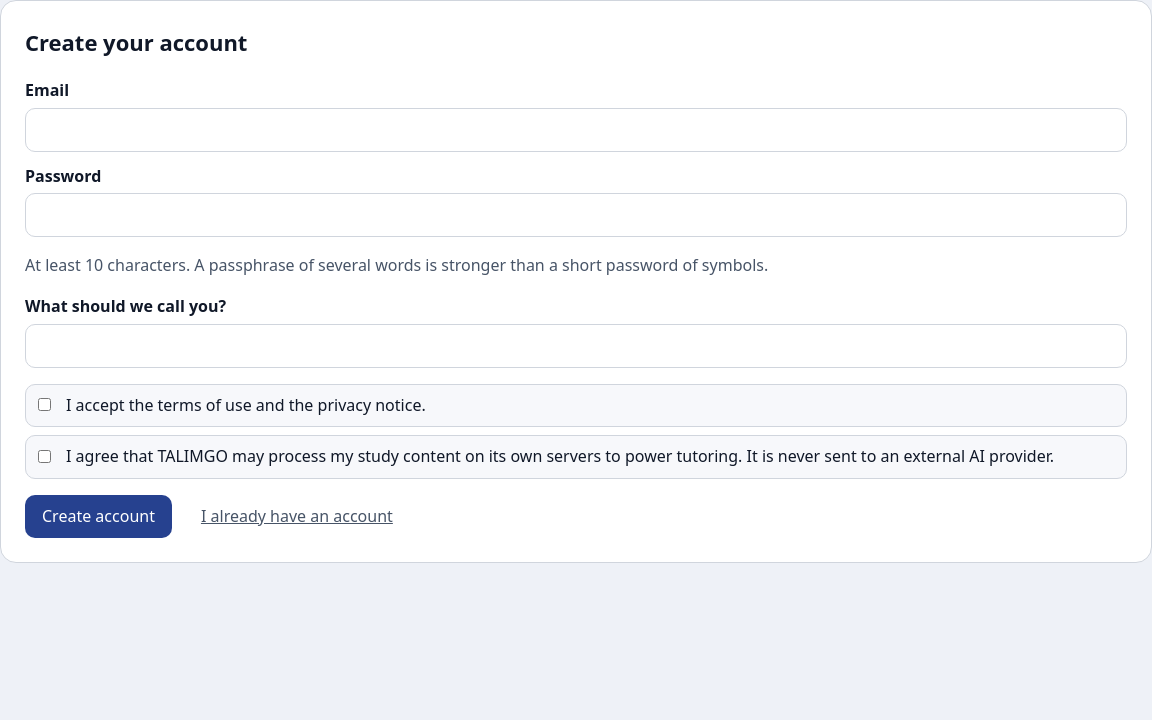
Test: errors are announced, not just coloured › announces a failed sign-in attempt in a live region
Note: Login mode has no required consent checkboxes, so the submit path is the plain one.
Click the button "I already have an account" at (297, 517), box 184,495 -> 410,538
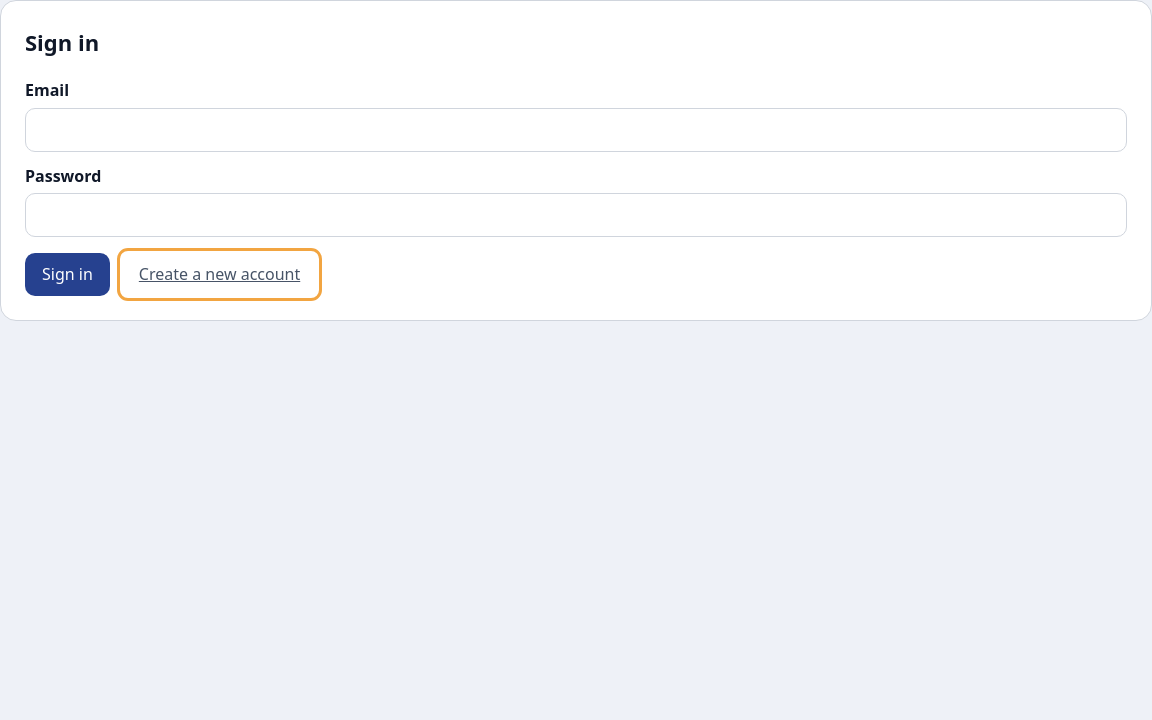
Type "learner@example.com" into the field labelled "Email" at (576, 130), box 25,108 -> 1127,152
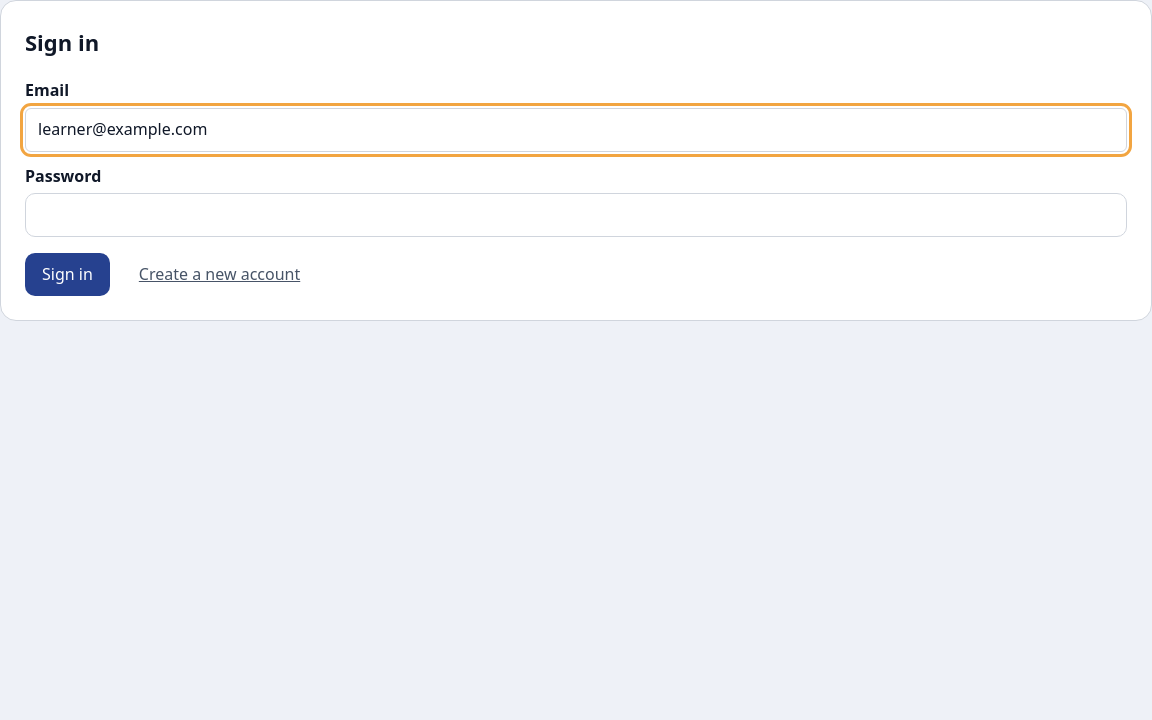
Type "correct-horse-battery" into the password field labelled "Password" at (576, 215), box 25,193 -> 1127,237
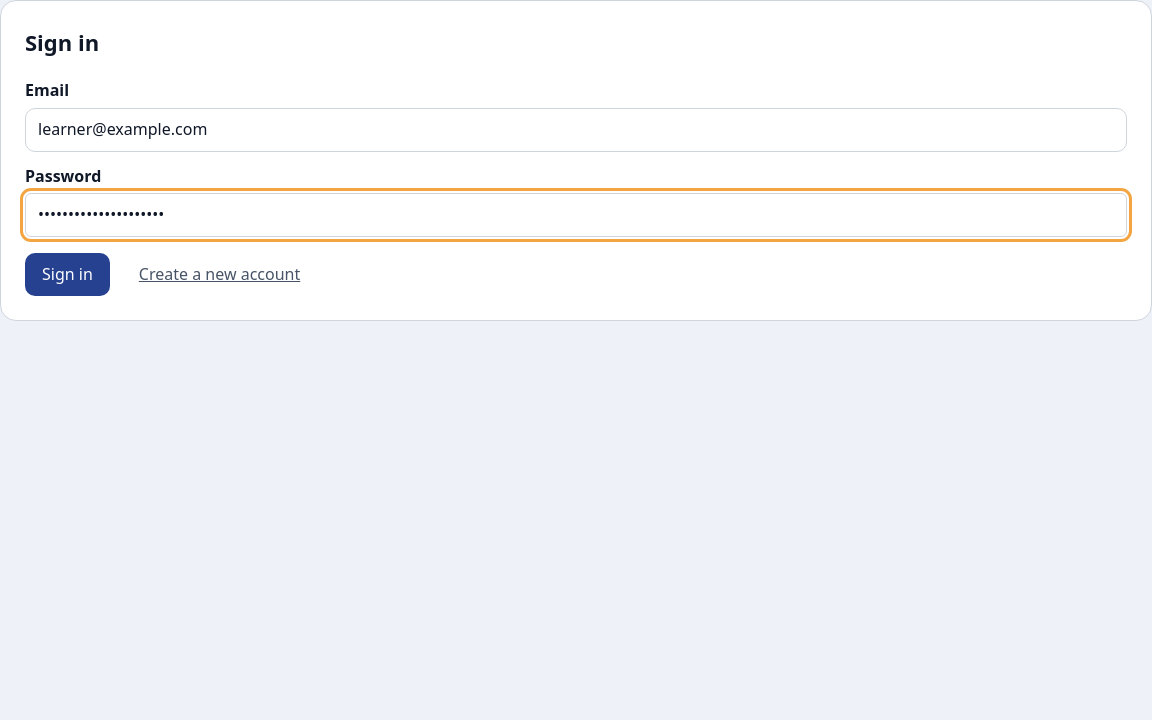
Click the button "Sign in" at (67, 275), box 25,253 -> 110,296
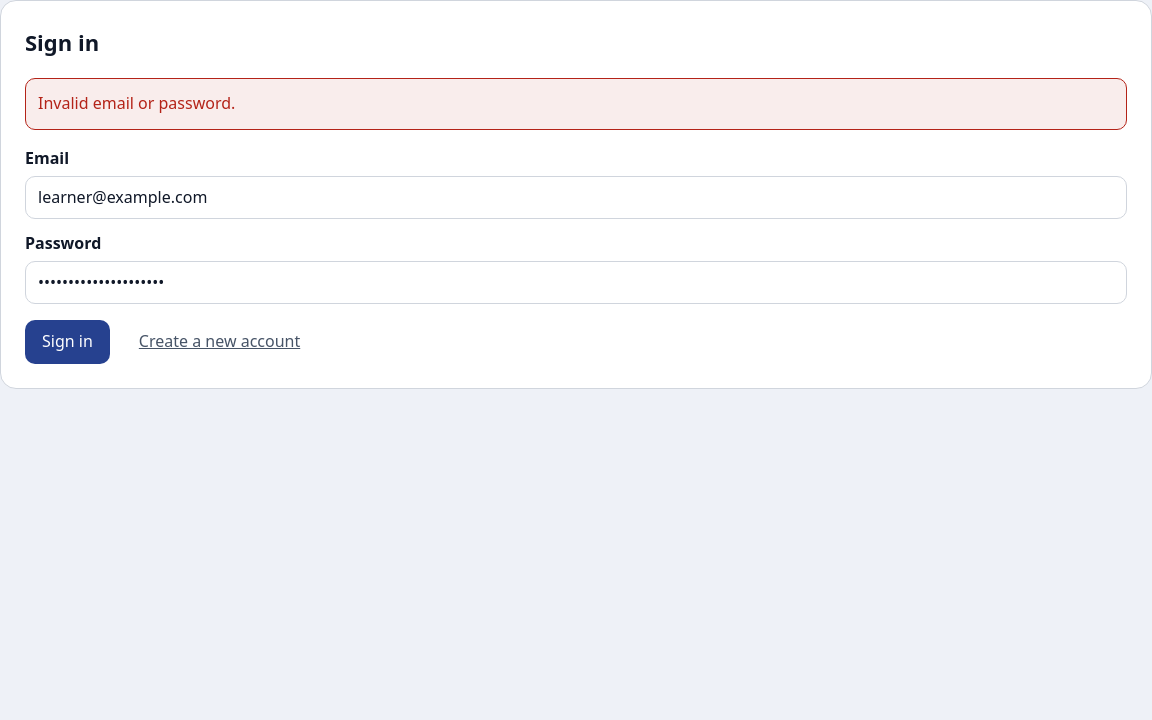
Expected: the message shows "Invalid email or password", 38,92 -> 235,114
